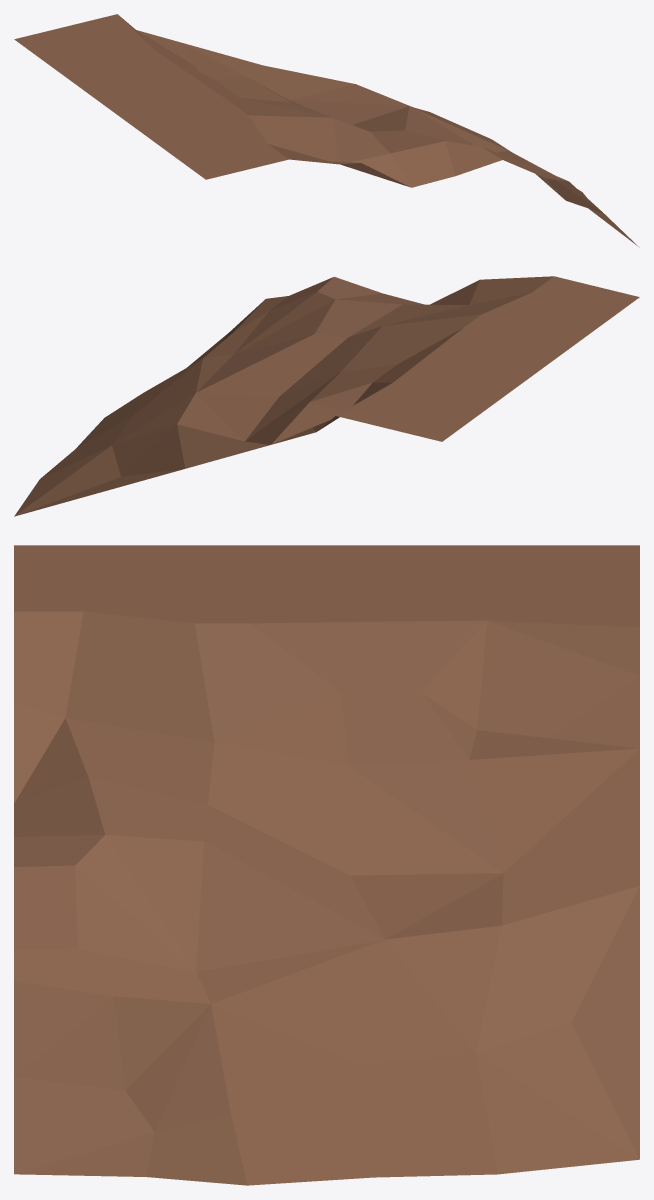
The model's file is terrain_1.FBX.
The picture shows the model from 3 angles, top to bottom: view 1: azimuth 30°, elevation 25°; view 2: azimuth 150°, elevation 25°; view 3: azimuth 270°, elevation 25°; orthographic projection. The views are drawn at different scales.
Visible parts, largest first — view 1: terrain_1; view 2: terrain_1; view 3: terrain_1.
Part boxes in pixels (x1,y1,x2,y2): terrain_1: (14,14,639,247); terrain_1: (14,276,639,516); terrain_1: (14,545,639,1185).
Size of the model in its own units: 418 by 155 by 310.
